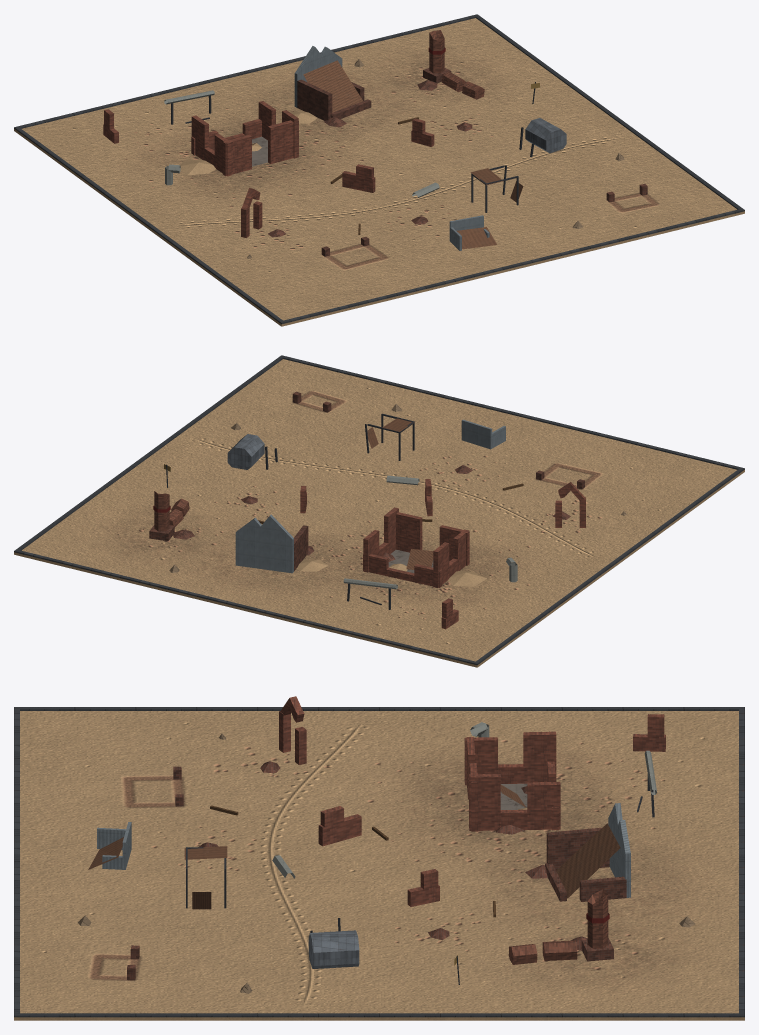
The model's file is Ruins01.fbx.
3 renders of one model, top to bottom at view 1: azimuth 30°, elevation 25°; view 2: azimuth 150°, elevation 25°; view 3: azimuth 270°, elevation 25°, orthographic. The views are drawn at different scales.
Parts seen in each view (by area): view 1: WasteRuins_Ground, WasteRuins_Brick, WasteRuins_GroundTrim, WasteRuins_BrickDark, WasteRuins_Corrugated, WasteRuins_PadSide, WasteRuins_Siding, WasteRuins_Stack, WasteRuins_Tank, WasteRuins_Rust, WasteRuins_Drift, WasteRuins_Duct; view 2: WasteRuins_Ground, WasteRuins_GroundTrim, WasteRuins_Brick, WasteRuins_Siding, WasteRuins_PadSide, WasteRuins_BrickDark, WasteRuins_Tank, WasteRuins_Stack, WasteRuins_Drift, WasteRuins_Corrugated, WasteRuins_Rust, WasteRuins_Duct; view 3: WasteRuins_Ground, WasteRuins_Brick, WasteRuins_GroundTrim, WasteRuins_BrickDark, WasteRuins_Corrugated, WasteRuins_PadSide, WasteRuins_Stack, WasteRuins_Siding, WasteRuins_Tank, WasteRuins_Duct, WasteRuins_Rust.
Boxes of the visible parts, <box> form: WasteRuins_Ground: <box>22,18,736,320</box>; WasteRuins_Brick: <box>103,101,434,237</box>; WasteRuins_GroundTrim: <box>14,14,744,324</box>; WasteRuins_BrickDark: <box>213,68,647,256</box>; WasteRuins_Corrugated: <box>252,60,523,249</box>; WasteRuins_PadSide: <box>14,129,744,326</box>; WasteRuins_Siding: <box>294,46,489,250</box>; WasteRuins_Stack: <box>429,30,484,99</box>; WasteRuins_Tank: <box>525,118,566,153</box>; WasteRuins_Rust: <box>171,82,535,212</box>; WasteRuins_Drift: <box>179,110,316,175</box>; WasteRuins_Duct: <box>164,90,439,197</box>; WasteRuins_Ground: <box>22,359,736,661</box>; WasteRuins_GroundTrim: <box>14,355,744,665</box>; WasteRuins_Brick: <box>300,479,585,629</box>; WasteRuins_Siding: <box>235,419,505,573</box>; WasteRuins_PadSide: <box>14,470,744,667</box>; WasteRuins_BrickDark: <box>149,391,584,571</box>; WasteRuins_Tank: <box>227,434,264,469</box>; WasteRuins_Stack: <box>154,491,189,531</box>; WasteRuins_Drift: <box>297,559,486,586</box>; WasteRuins_Corrugated: <box>367,418,433,569</box>; WasteRuins_Rust: <box>166,413,414,609</box>; WasteRuins_Duct: <box>343,475,517,589</box>; WasteRuins_Ground: <box>20,711,738,1013</box>; WasteRuins_Brick: <box>279,696,665,906</box>; WasteRuins_GroundTrim: <box>14,707,744,1017</box>; WasteRuins_BrickDark: <box>127,761,626,980</box>; WasteRuins_Corrugated: <box>88,784,620,909</box>; WasteRuins_PadSide: <box>14,1017,744,1020</box>; WasteRuins_Stack: <box>508,889,608,964</box>; WasteRuins_Siding: <box>97,803,630,897</box>; WasteRuins_Tank: <box>308,930,359,968</box>; WasteRuins_Duct: <box>272,722,656,878</box>; WasteRuins_Rust: <box>186,774,654,984</box>.
Bounding box in the file's own units: 12 × 1.42 × 12.
16 materials, 16 textured.
